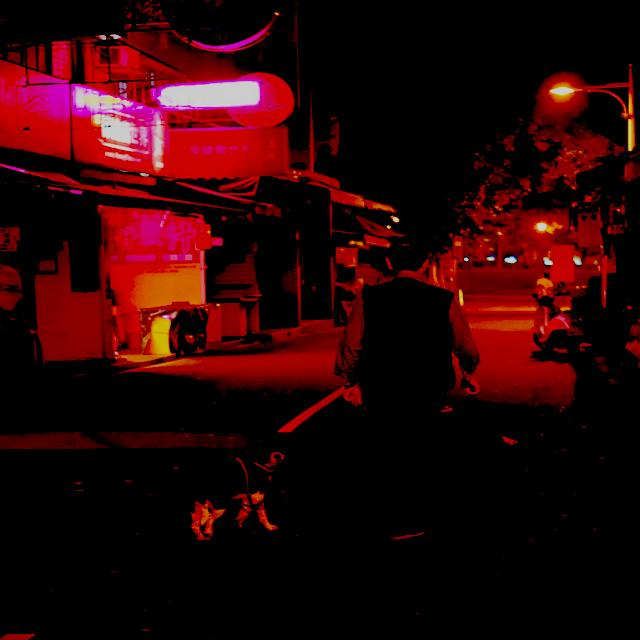Dog: (121, 415, 332, 579)
